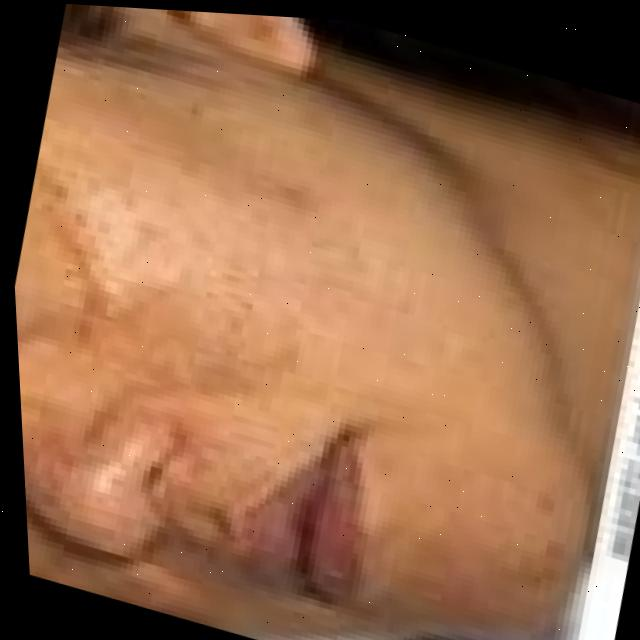Melasma: (54, 257, 326, 460), (489, 499, 586, 628), (23, 434, 90, 501)
